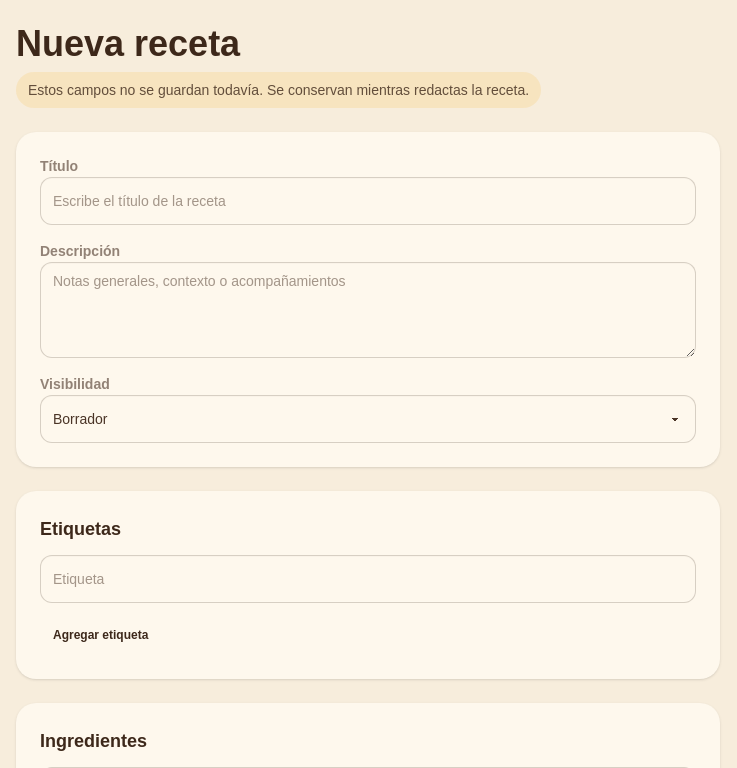
it: CreateRecipeForm › shows the API submit-failure message when the request fails, not the required-title message
Type "Pastel de choclo" into the field labelled "Título".
click(368, 201); type("Pastel de choclo")  # box [40,177,696,225]
(page scrolled)
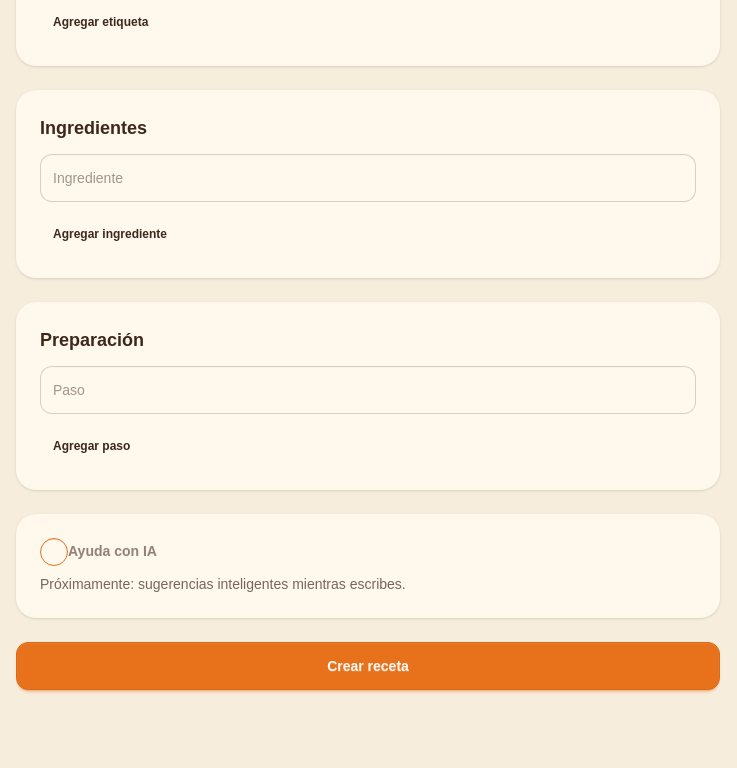
Click the button "Crear receta".
click(368, 666)  # box [16,642,720,690]
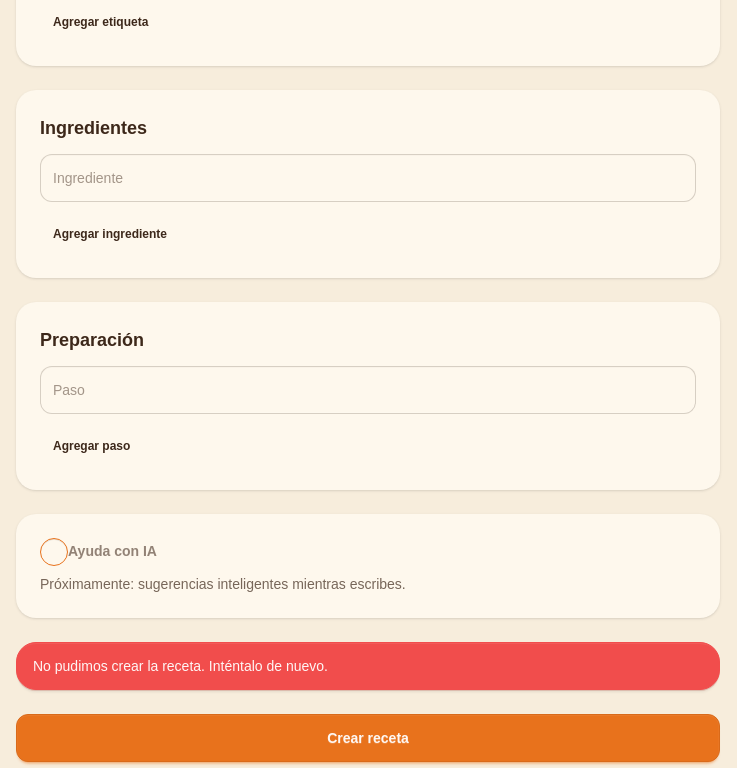
Expected: the message reads "No pudimos crear la receta. Inténtalo de nuevo.", [33,658,328,674]
